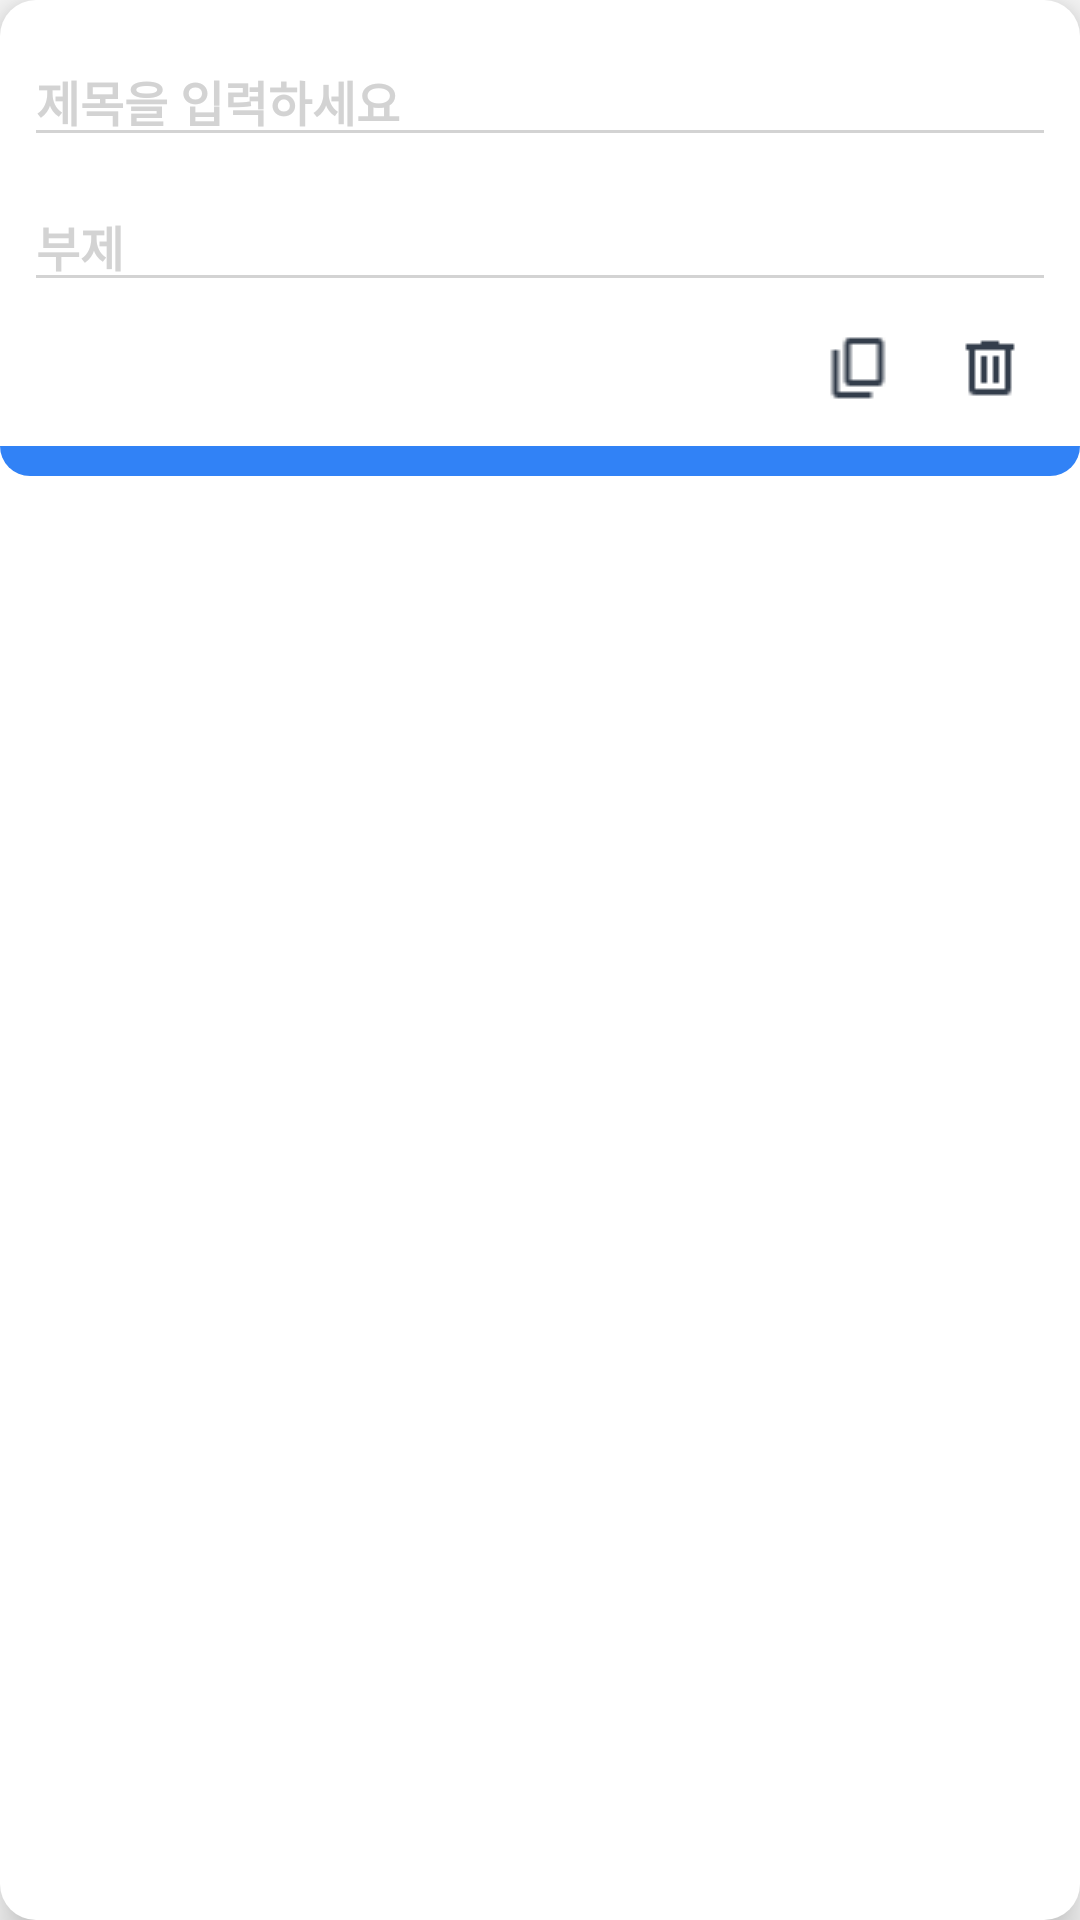

Where to tap for icons on this 1080px×1920px app screen, as (x,y):
delete: (990,368)
